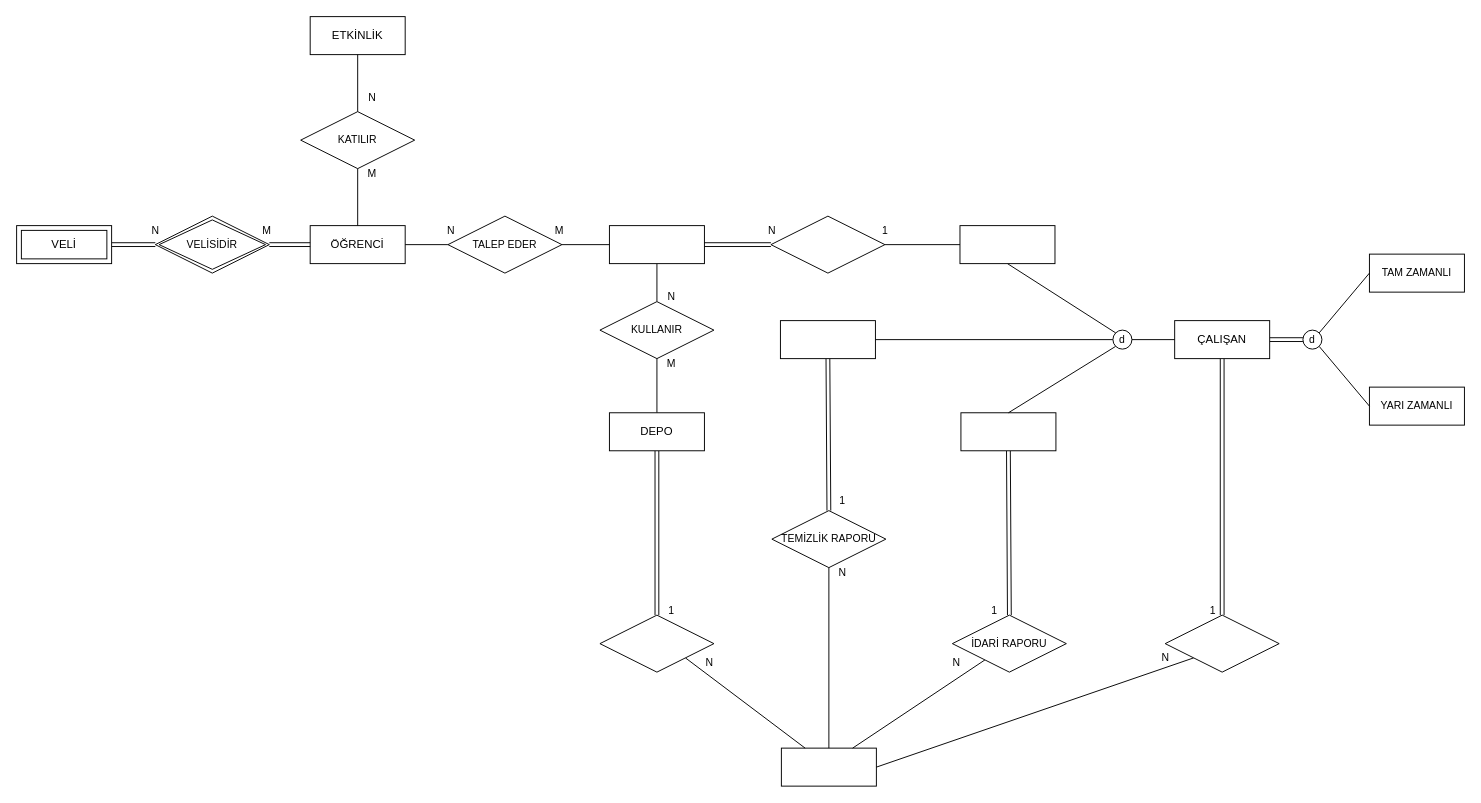
Some shapes in this 1481 by 803 pixel diagram are drawn without their labels. The box of each missing label's shape, as (x1, y1, x2, y2) in pixels:
DEPO RAPORU: (599, 614, 714, 672)
DERS: (608, 225, 704, 264)
İDARİ: (960, 412, 1056, 451)
MAAŞ RAPORU: (1164, 614, 1279, 672)
RAPOR: (780, 747, 876, 786)
TEMİZLİK GÖREVLİSİ: (779, 320, 875, 359)
ÖĞRETİLİR: (770, 215, 885, 273)
ÖĞRETMEN: (959, 225, 1055, 264)
